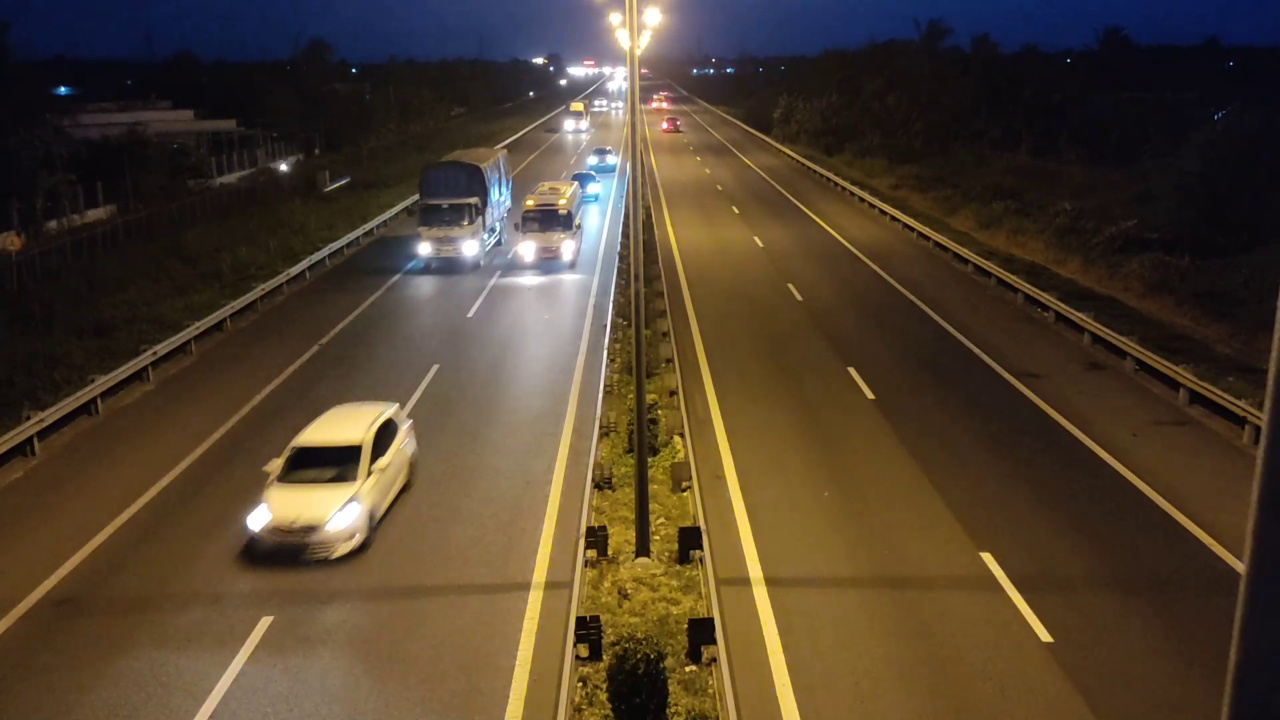bus: (514, 173, 587, 275)
car: (243, 399, 421, 563)
truck: (416, 145, 515, 273)
